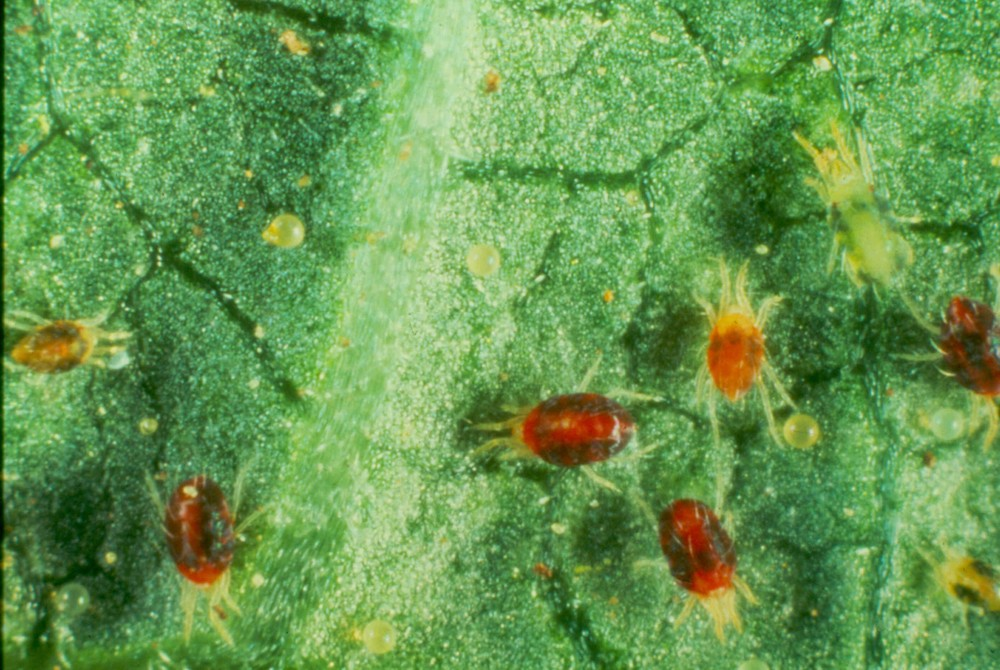Aracnido Rojo: (453, 355, 675, 492), (125, 452, 276, 652), (615, 477, 783, 655), (792, 117, 937, 313), (669, 254, 803, 447), (900, 255, 1000, 456), (2, 290, 165, 402), (909, 515, 1000, 639)
